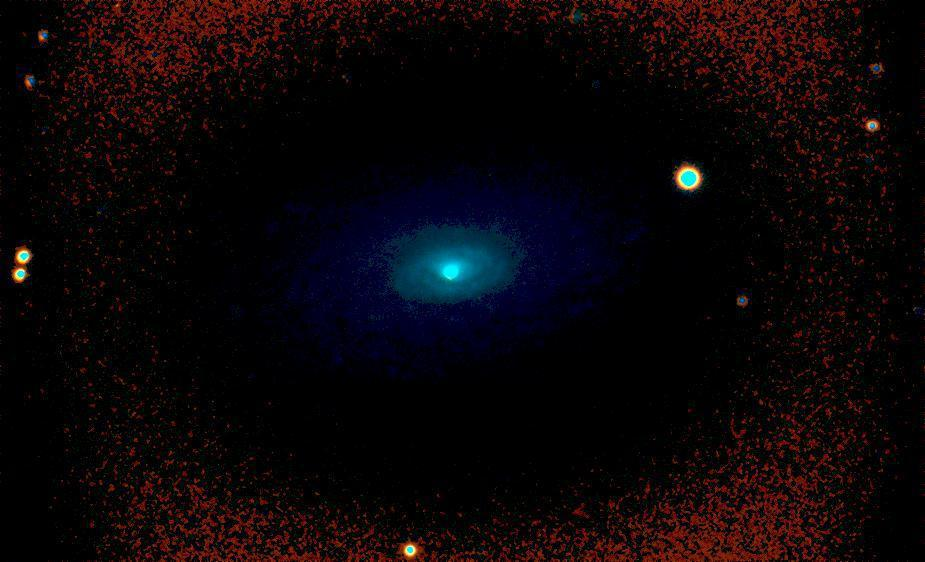star: (465, 284, 495, 314)
